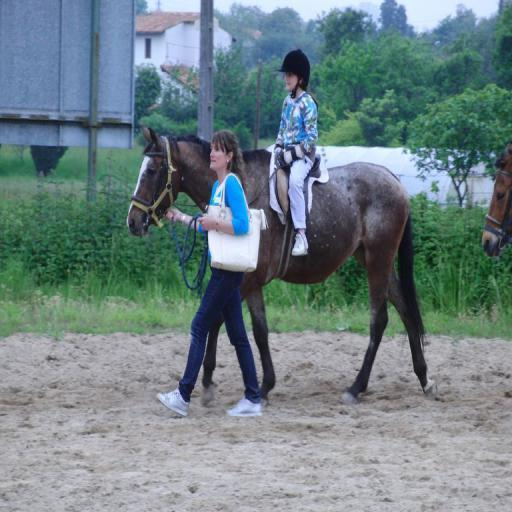horse: (124, 122, 439, 406), (480, 142, 512, 259)
